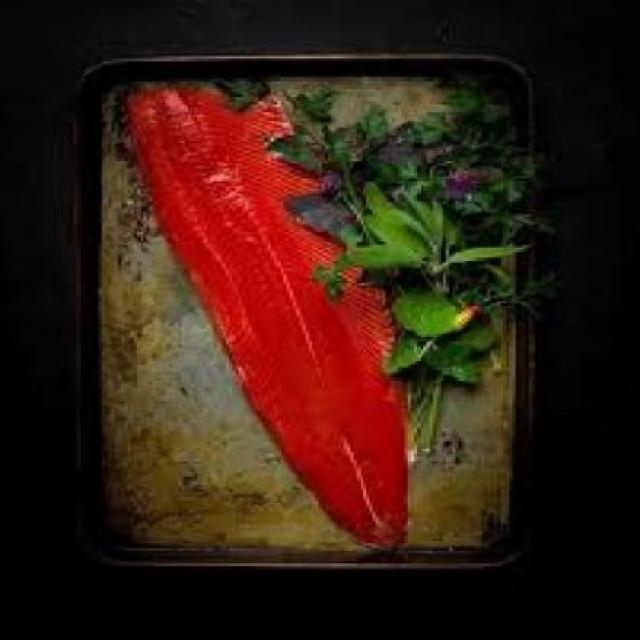salmon: (125, 72, 478, 554)
